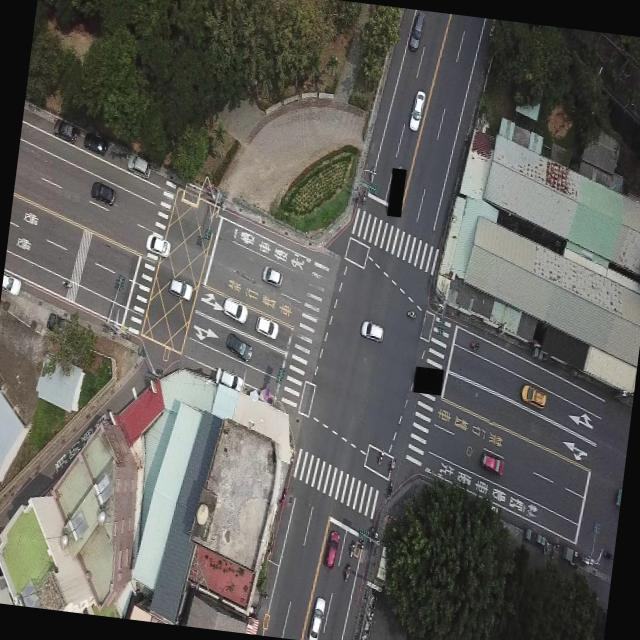bike: (468, 340, 482, 354), (376, 447, 386, 465), (60, 277, 73, 290), (386, 479, 394, 499), (368, 165, 376, 185), (602, 549, 614, 561), (343, 565, 351, 582), (389, 457, 397, 473), (360, 187, 368, 203), (348, 542, 355, 558), (406, 308, 416, 318)
car: (306, 593, 329, 640), (222, 331, 254, 362), (518, 382, 548, 412), (88, 178, 118, 208), (322, 526, 342, 568), (408, 89, 427, 131), (220, 295, 248, 323), (408, 9, 426, 50), (52, 116, 78, 144), (254, 313, 280, 339), (144, 231, 170, 257), (126, 153, 152, 179), (480, 451, 506, 476), (82, 130, 108, 155), (168, 277, 194, 300), (360, 319, 384, 342), (260, 264, 284, 286), (1, 273, 23, 294), (614, 483, 622, 508)
